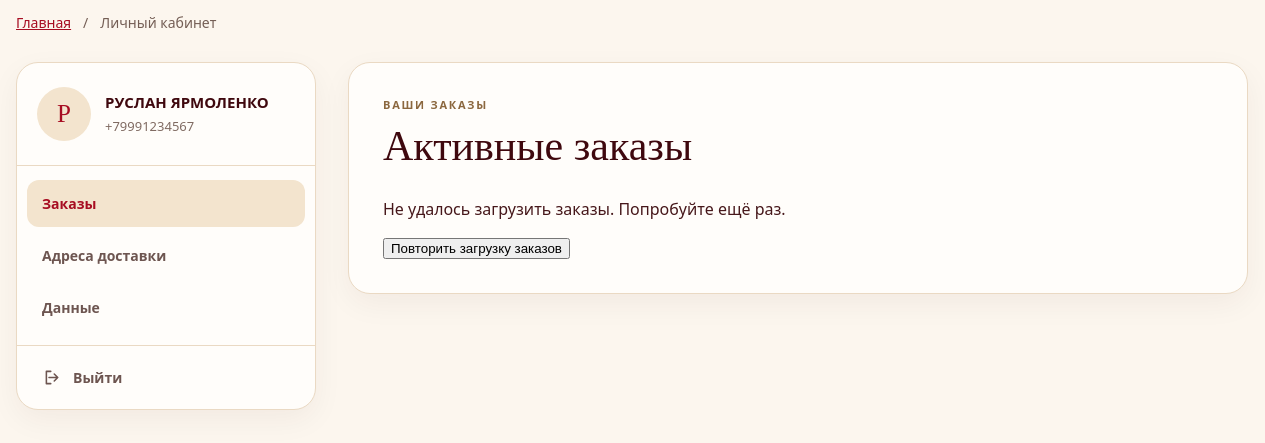
Test: ошибка загрузки заказов не выглядит как пустая история
Expected: the text "Заказов пока нет." is not shown
Click the button "Повторить загрузку заказов": (476, 249) [383,238,570,259]
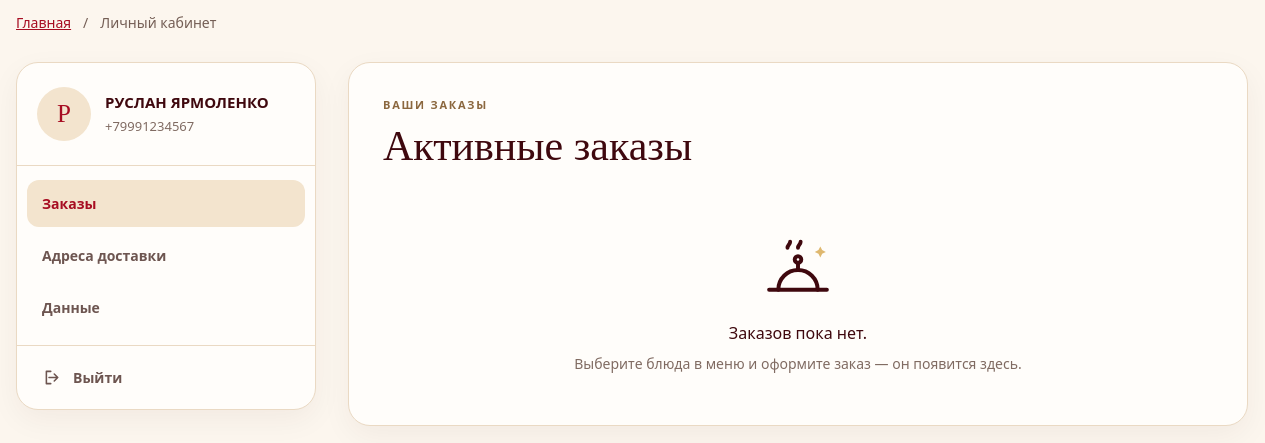
Result: the text "Заказов пока нет." is shown at [729,322,867,344]
